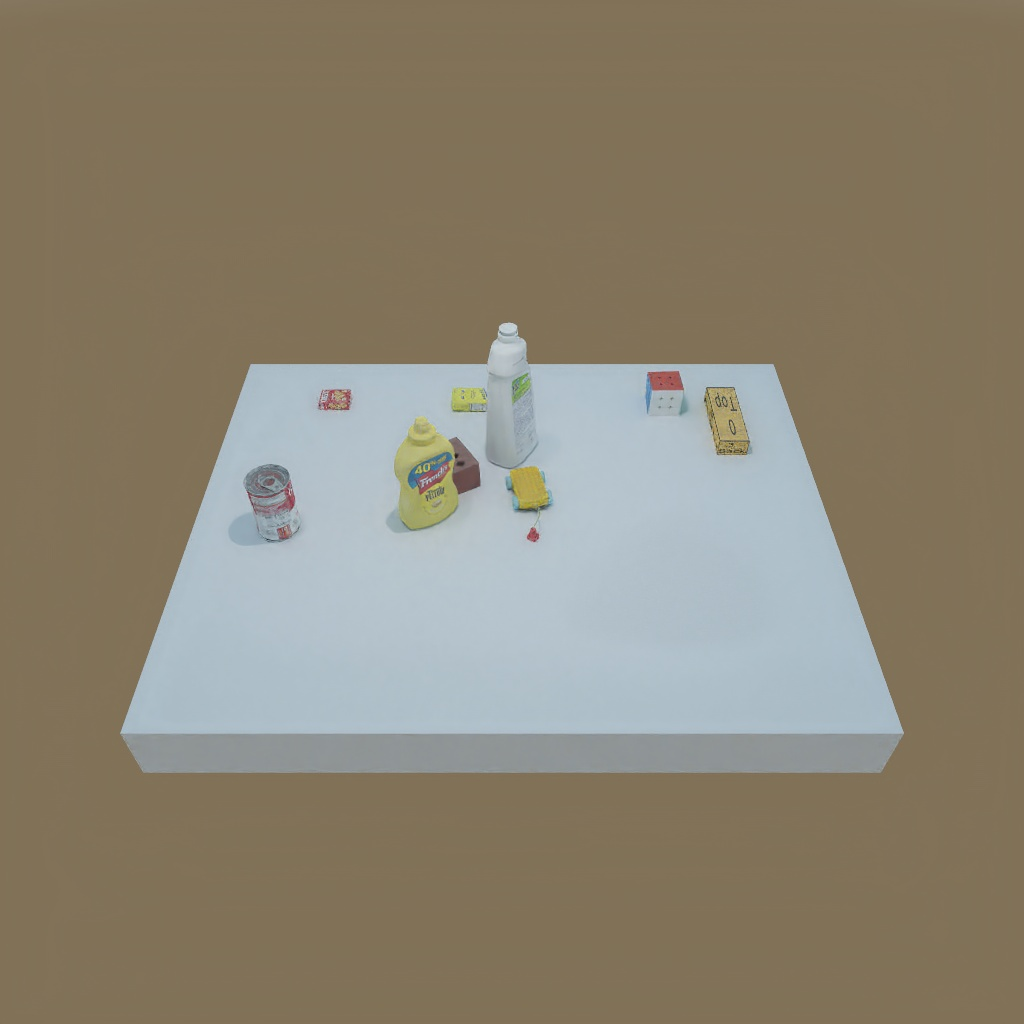jenga: (699, 381, 755, 460)
mustard_bottle: (394, 419, 459, 525)
rubiks_cube: (642, 368, 689, 416)
tomato_soup_can: (236, 457, 306, 543)
